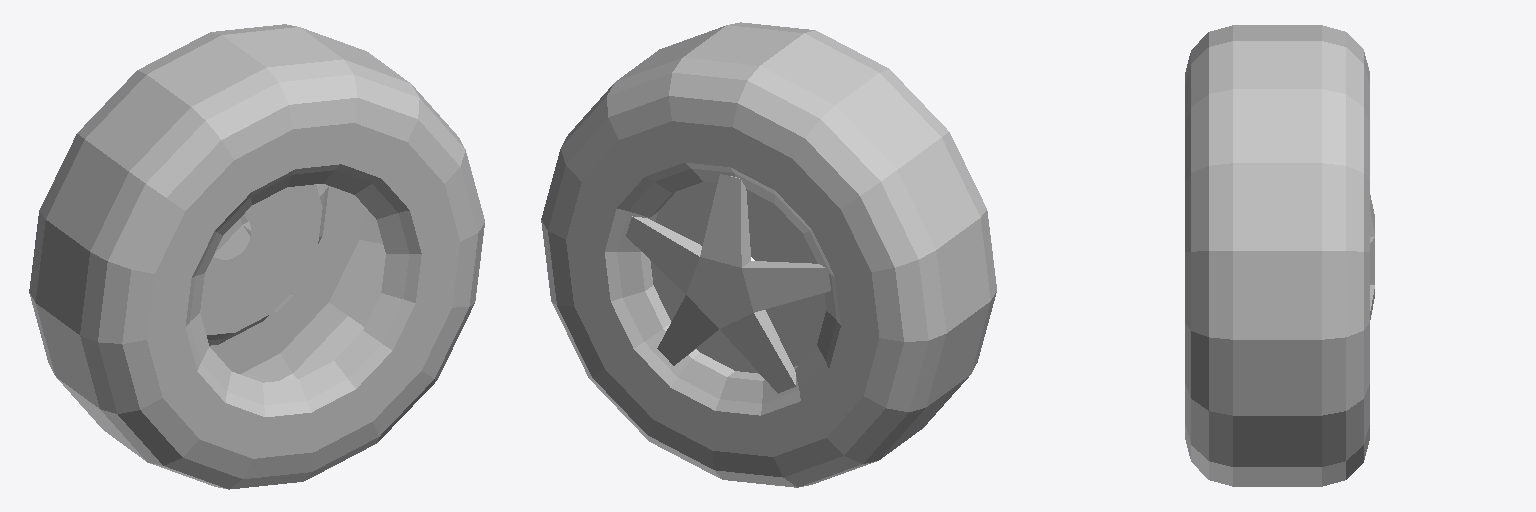
File: car_wheel.obj
3 renders of one model, left to right at view 1: azimuth 30°, elevation 25°; view 2: azimuth 150°, elevation 25°; view 3: azimuth 270°, elevation 25°, orthographic.
Visible parts, largest first — view 1: Wheel.001, Wheel_disk; view 2: Wheel.001, Wheel_disk; view 3: Wheel.001, Wheel_disk.
Boxes of the visible parts, box(x1,y1,x2,y2) form: Wheel.001: box(29, 24, 484, 489); Wheel_disk: box(214, 184, 318, 311); Wheel.001: box(541, 22, 996, 487); Wheel_disk: box(626, 174, 830, 393); Wheel.001: box(1185, 25, 1369, 486); Wheel_disk: box(1370, 195, 1374, 319).
Size of the model in its own units: 1.16 by 1.16 by 0.4801.